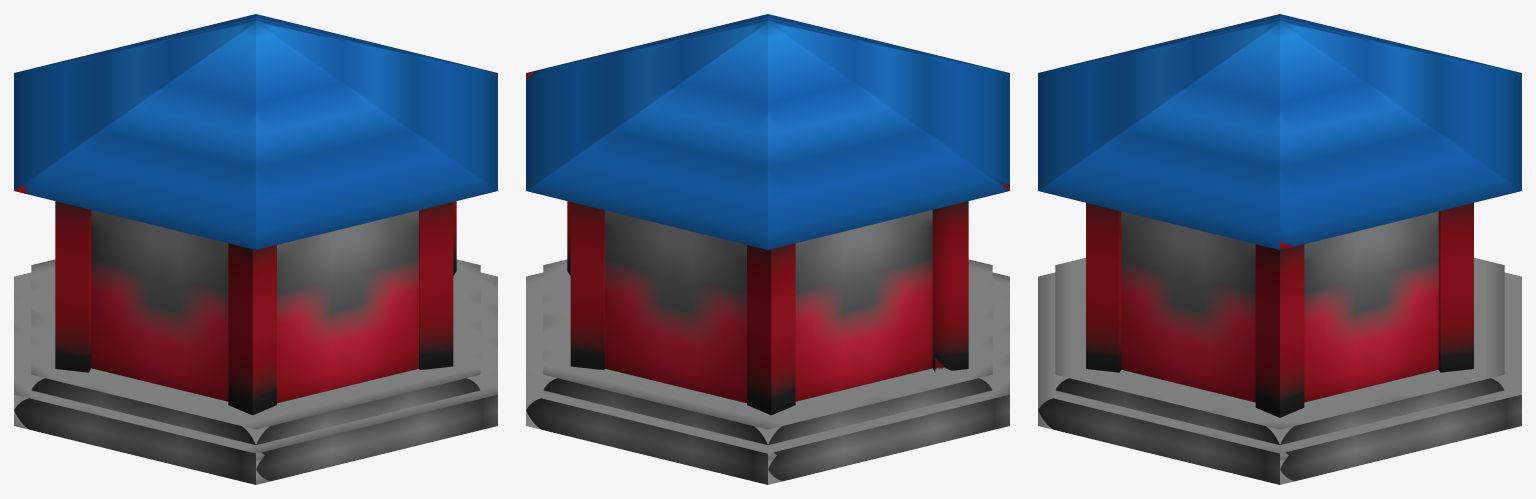
The model's file is Center Shrine.fbx.
The picture shows the model from 3 angles, left to right: view 1: azimuth 30°, elevation 25°; view 2: azimuth 150°, elevation 25°; view 3: azimuth 270°, elevation 25°; orthographic projection.
Parts seen in each view (by area): view 1: cone, cylinder, cylinder_1, cylinder_2, shrine; view 2: cone, cylinder, cylinder_1, cylinder_2, shrine; view 3: cone, cylinder, cylinder_1, cylinder_2, shrine.
Part boxes in pixels (box(x1,y1,x2,y2)): cone: box(14, 14, 497, 249); cylinder: box(91, 210, 418, 403); cylinder_1: box(14, 272, 497, 484); cylinder_2: box(31, 259, 480, 460); shrine: box(55, 201, 456, 415); cone: box(526, 14, 1009, 249); cylinder: box(605, 210, 942, 403); cylinder_1: box(526, 272, 1009, 484); cylinder_2: box(543, 259, 992, 460); shrine: box(567, 201, 968, 415); cone: box(1038, 14, 1521, 249); cylinder: box(1121, 211, 1438, 402); cylinder_1: box(1038, 272, 1521, 484); cylinder_2: box(1055, 257, 1504, 460); shrine: box(1086, 203, 1473, 417).
Bounding box in the file's own units: 101 × 68.75 × 87.5.
Materials: 1 (1 with a texture image).
